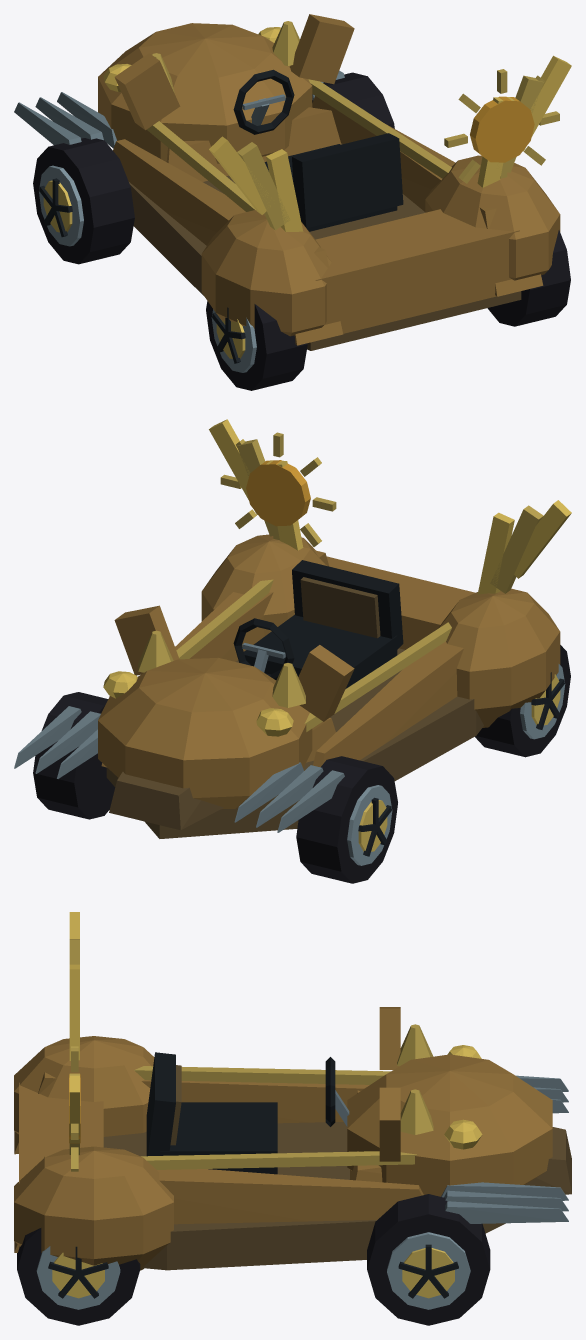
Rendered from kart.glb.
3 views of the same model, one above another, from view 1: azimuth 30°, elevation 25°; view 2: azimuth 150°, elevation 25°; view 3: azimuth 270°, elevation 25° (orthographic).
Parts seen in each view (by area): view 1: identity-beast-beast-sculpted-prow-and-haunches, identity-beast-driver-cockpit, wheel-front-left, identity-beast-motif-feathers, wheel-rear-left, identity-beast-motif-sun, identity-beast-motif-claws, wheel-rear-right, wheel-front-right; view 2: identity-beast-beast-sculpted-prow-and-haunches, identity-beast-driver-cockpit, wheel-front-left, identity-beast-motif-claws, identity-beast-motif-feathers, wheel-front-right, identity-beast-motif-sun, wheel-rear-left; view 3: identity-beast-beast-sculpted-prow-and-haunches, wheel-front-right, identity-beast-driver-cockpit, wheel-rear-right, identity-beast-motif-claws, identity-beast-motif-feathers, identity-beast-motif-sun.
Part boxes in pixels (x1,y1,x2,y2): identity-beast-beast-sculpted-prow-and-haunches: [98, 14, 560, 350]; identity-beast-driver-cockpit: [233, 69, 403, 231]; wheel-front-left: [33, 138, 134, 264]; identity-beast-motif-feathers: [209, 55, 571, 231]; wheel-rear-left: [206, 301, 307, 390]; identity-beast-motif-sun: [444, 69, 559, 183]; identity-beast-motif-claws: [14, 70, 344, 148]; wheel-rear-right: [487, 230, 570, 326]; wheel-front-right: [312, 72, 394, 128]; identity-beast-beast-sculpted-prow-and-haunches: [98, 534, 560, 838]; identity-beast-driver-cockpit: [233, 560, 403, 688]; wheel-front-left: [296, 756, 397, 883]; identity-beast-motif-claws: [14, 706, 344, 832]; identity-beast-motif-feathers: [209, 419, 571, 594]; wheel-front-right: [33, 692, 115, 819]; identity-beast-motif-sun: [220, 432, 336, 546]; wheel-rear-left: [475, 645, 570, 757]; identity-beast-beast-sculpted-prow-and-haunches: [14, 1007, 571, 1270]; wheel-front-right: [367, 1194, 490, 1325]; identity-beast-driver-cockpit: [146, 1052, 349, 1174]; wheel-rear-right: [17, 1228, 140, 1325]; identity-beast-motif-claws: [441, 1075, 568, 1223]; identity-beast-motif-feathers: [69, 912, 79, 1154]; identity-beast-motif-sun: [69, 1046, 80, 1171].
Size of the model in its own units: 2.18 by 1.47 by 2.9.
